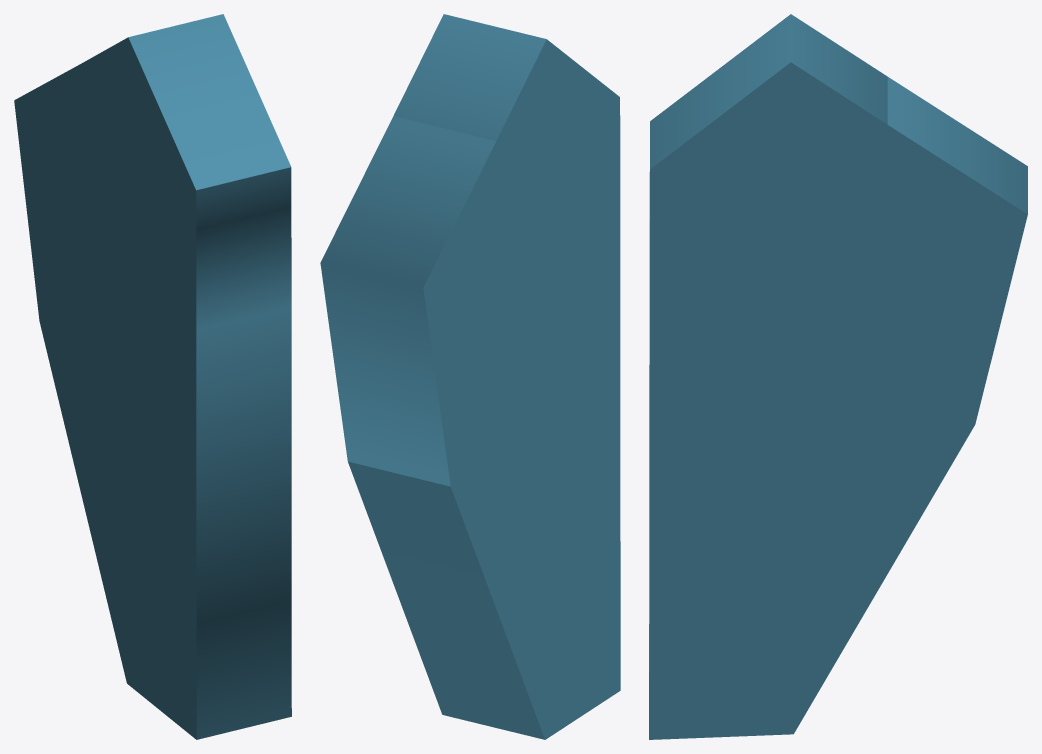
Rendered from NexusC_Trigger_16.fbx.
3 views of the same model, side by side, from view 1: azimuth 30°, elevation 25°; view 2: azimuth 150°, elevation 25°; view 3: azimuth 270°, elevation 25° (orthographic). The views are drawn at different scales.
Visible parts, largest first — view 1: polySurface60; view 2: polySurface60; view 3: polySurface60.
Part boxes in pixels (left/top/right/bottom): polySurface60: left=14, top=14, right=291, bottom=739; polySurface60: left=320, top=14, right=620, bottom=739; polySurface60: left=649, top=14, right=1027, bottom=739.
Size of the model in its own units: 9.22 by 60.37 by 30.58.
